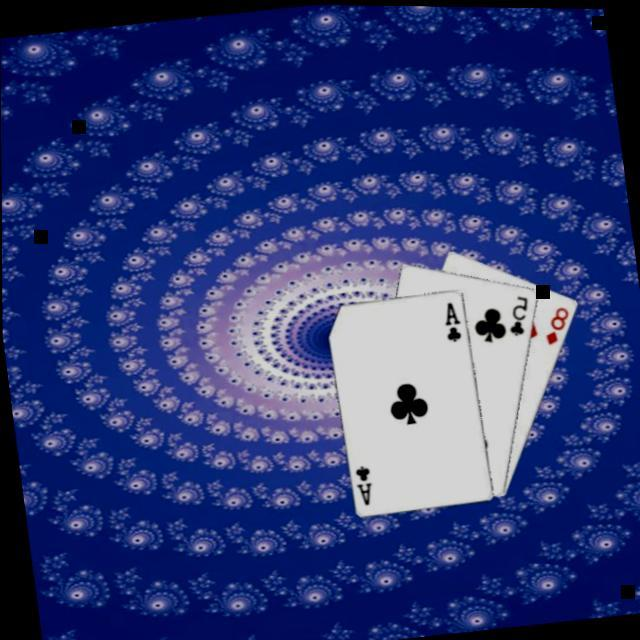5C: (500, 288, 533, 336)
8D: (538, 298, 574, 344)
AC: (438, 294, 463, 342), (350, 458, 374, 506)
